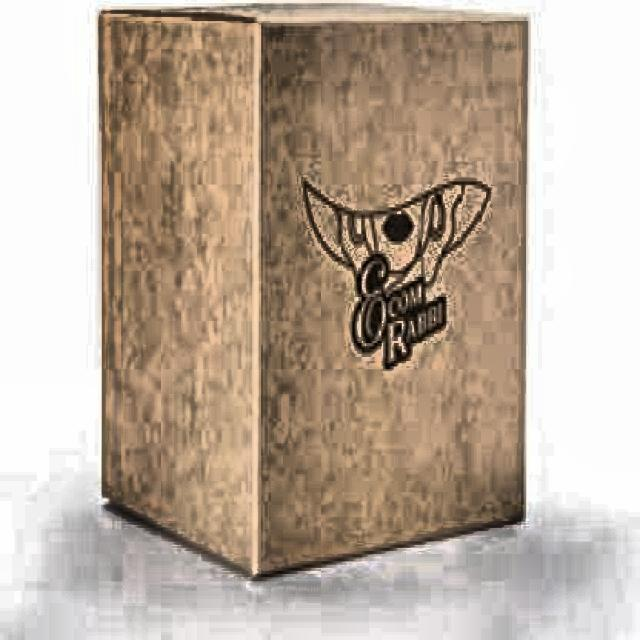Cardbox: (71, 0, 540, 575)
